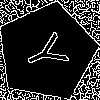Y: (22, 27, 78, 77)
